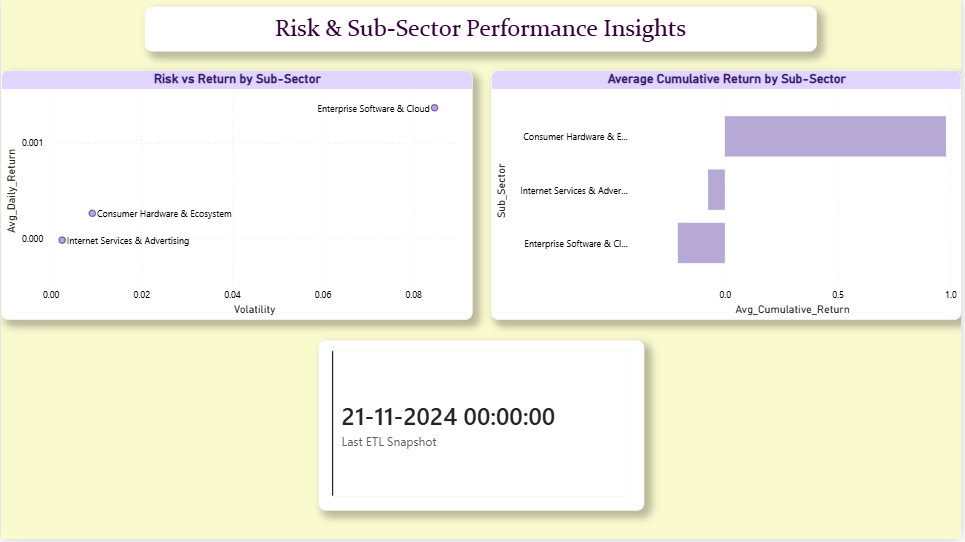

The page's visual inventory and layout, read from the dashboard file:
{"tool":"powerbi","page":{"name":"Risk & Sub-Sector Performance Insights","canvas":[1280,720],"ordinal":3},"visuals":[{"type":"scatterChart","title":"Risk vs Return by Sub-Sector","fields":{"Category":["subsector_performance.Sub_Sector"],"X":["Avg(subsector_performance.Volatility)"],"Y":["subsector_performance.Avg_Daily_Return"]},"box":[0,95.7,628.6,332.9],"z":0},{"type":"barChart","title":"Average Cumulative Return by Sub-Sector","fields":{"Category":["subsector_performance.Sub_Sector"],"Y":["Sum(subsector_performance.Avg_Cumulative_Return)"]},"box":[652.9,95.7,627.1,332.9],"z":1},{"type":"cardVisual","title":"Average Cumulative Return by Sub-Sector","fields":{"Data":["airflow_triggered_stock_summary.Last ETL Snapshot"]},"box":[422.9,454.3,434.3,227.1],"z":2},{"type":"textbox","box":[191.4,10,895.7,60],"z":3}]}

Visuals, with their boxes in screenshot pixels (x1, y1, x2, y2), scaled from the page's 1280x720 canvas onto the 965x542 screenshot:
"Risk vs Return by Sub-Sector" scatterChart: rect(0, 72, 474, 323)
"Average Cumulative Return by Sub-Sector" barChart: rect(492, 72, 964, 323)
"Average Cumulative Return by Sub-Sector" cardVisual: rect(319, 342, 646, 513)
textbox: rect(144, 8, 820, 53)
